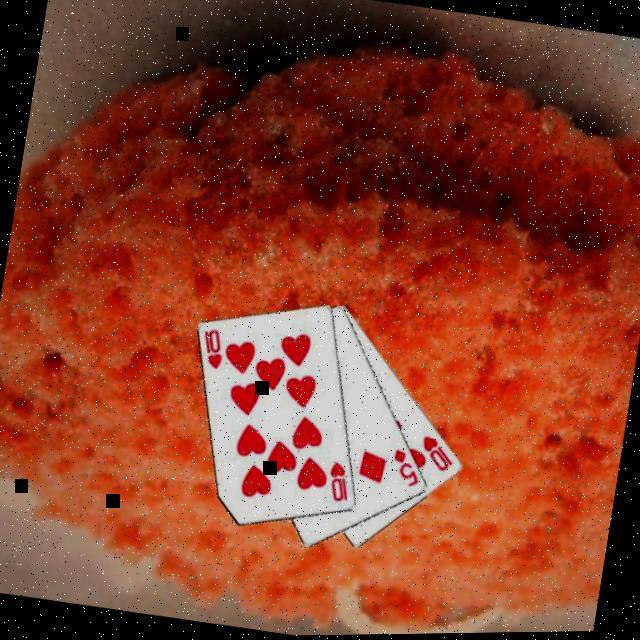10H: (417, 435, 460, 479), (324, 459, 357, 507), (197, 326, 230, 374)
5D: (387, 448, 427, 493)
